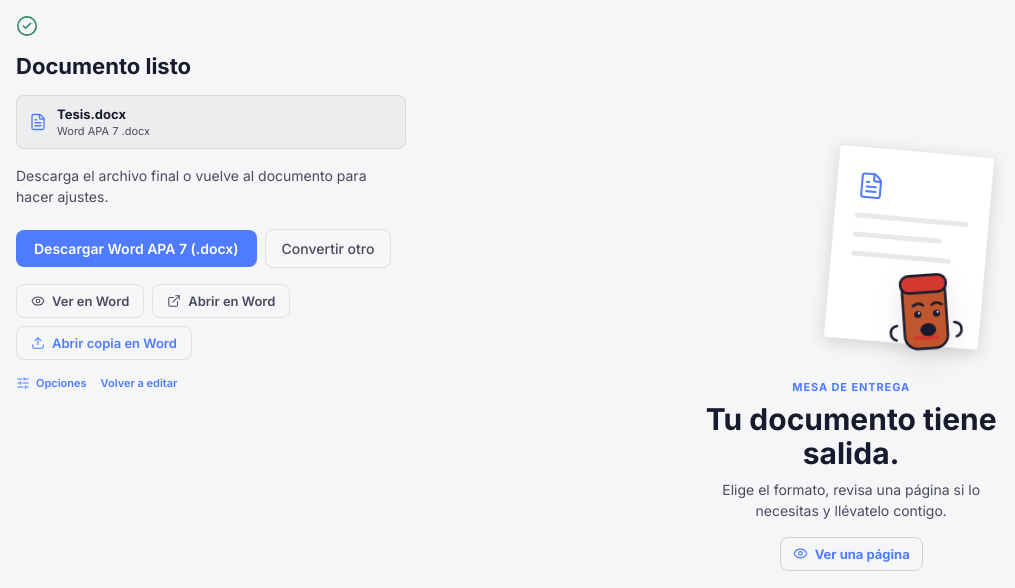
Test: la copia de trabajo en Word › dice dónde quedó la copia, no solo "listo"
Click the button "Abrir copia en Word".
click(104, 343)  # box [16,326,192,360]
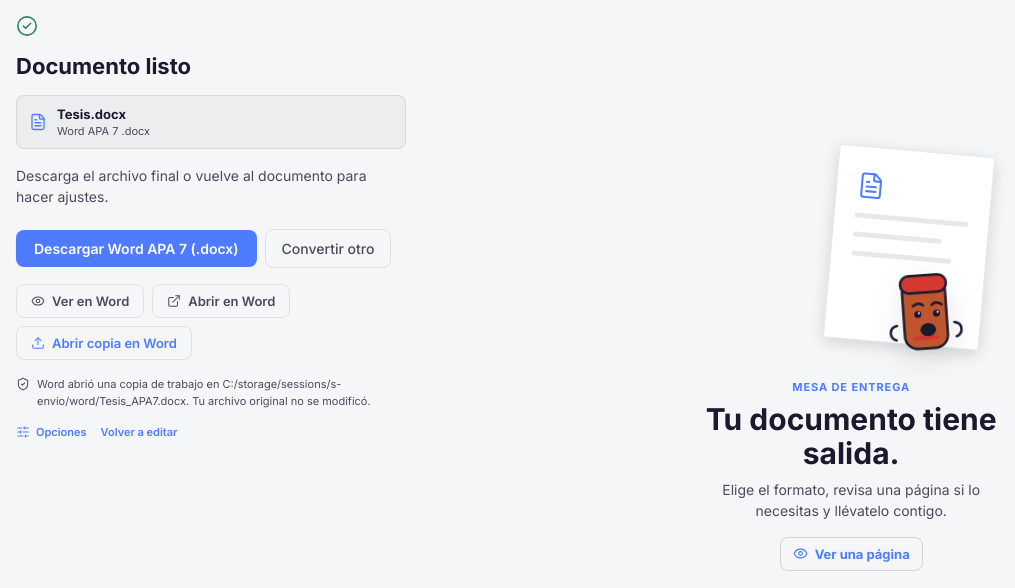
Now the text "Tesis_APA7.docx" is shown, box [37,377,371,408]
